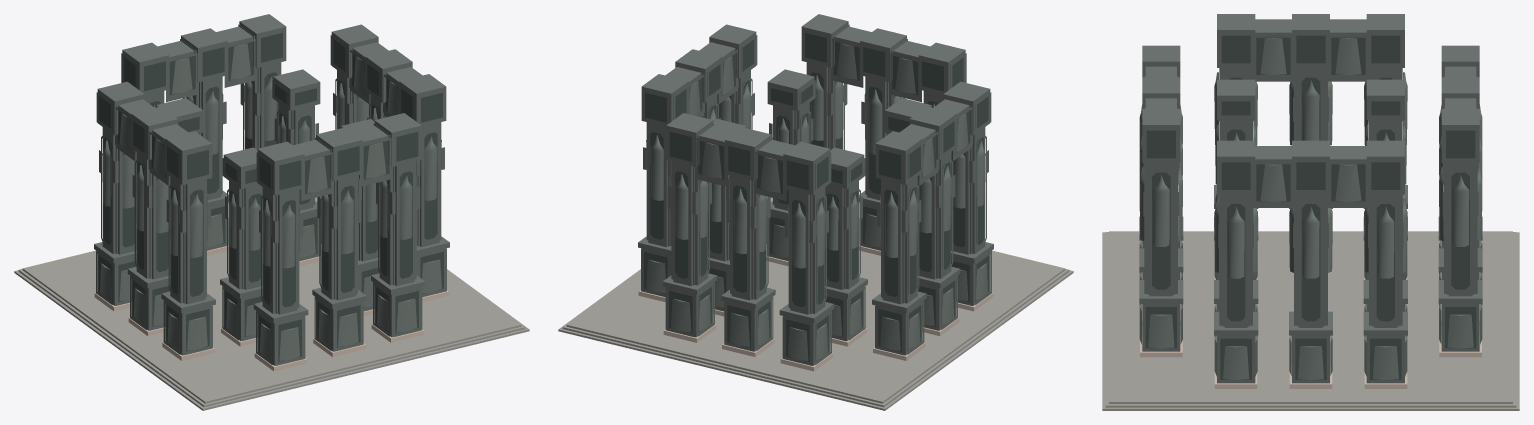
File: tbilisi-chronicle-of-georgia.glb
3 views of the same model, side by side, from view 1: azimuth 30°, elevation 25°; view 2: azimuth 150°, elevation 25°; view 3: azimuth 270°, elevation 25° (orthographic). The views are drawn at different scales.
Parts seen in each view (by area): view 1: The Chronicle of Georgia; view 2: The Chronicle of Georgia; view 3: The Chronicle of Georgia.
Boxes of the visible parts, x1,y1,x2,y2 form: The Chronicle of Georgia: (14,14,529,410); The Chronicle of Georgia: (558,14,1073,410); The Chronicle of Georgia: (1102,14,1519,410).
Bounding box in the file's own units: 55.8 × 35 × 55.8.
